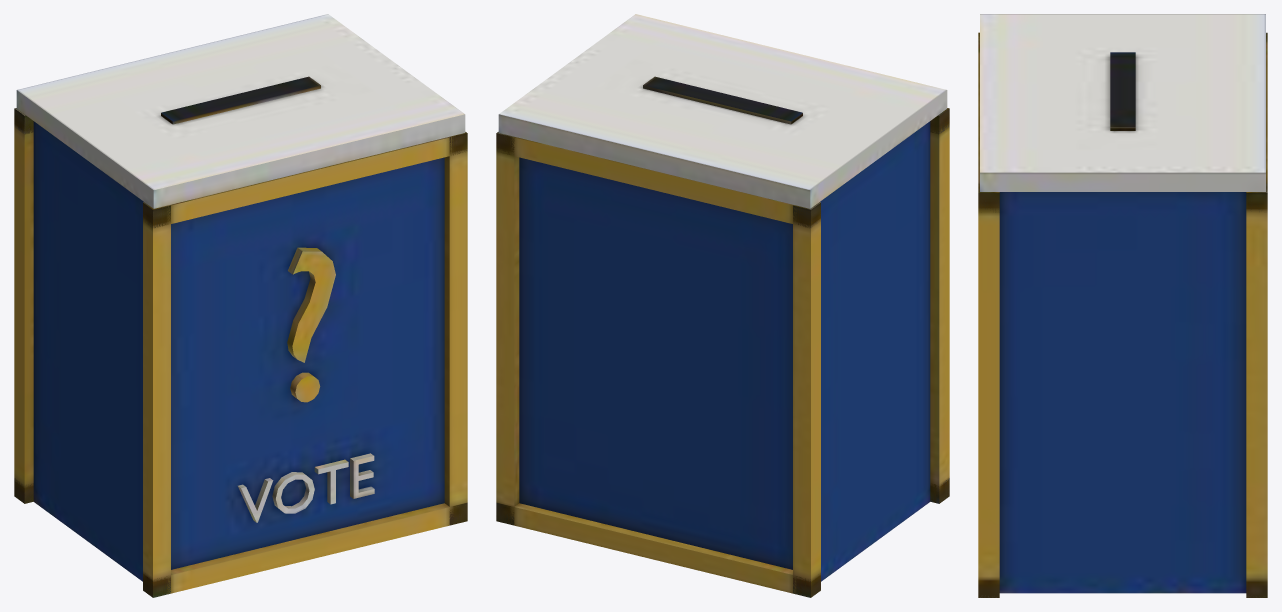
File: urna_trile.glb
3 views of the same model, side by side, from view 1: azimuth 30°, elevation 25°; view 2: azimuth 150°, elevation 25°; view 3: azimuth 270°, elevation 25° (orthographic). The views are drawn at different scales.
Visible parts, largest first — view 1: urna_trile; view 2: urna_trile; view 3: urna_trile.
Part boxes in pixels (x1=…): urna_trile: x1=14, y1=14, x2=467, y2=597; urna_trile: x1=496, y1=14, x2=949, y2=597; urna_trile: x1=978, y1=14, x2=1267, y2=597.
Bounding box in the file's own units: 2.12 × 2.64 × 1.62.
1 material, 1 textured.
